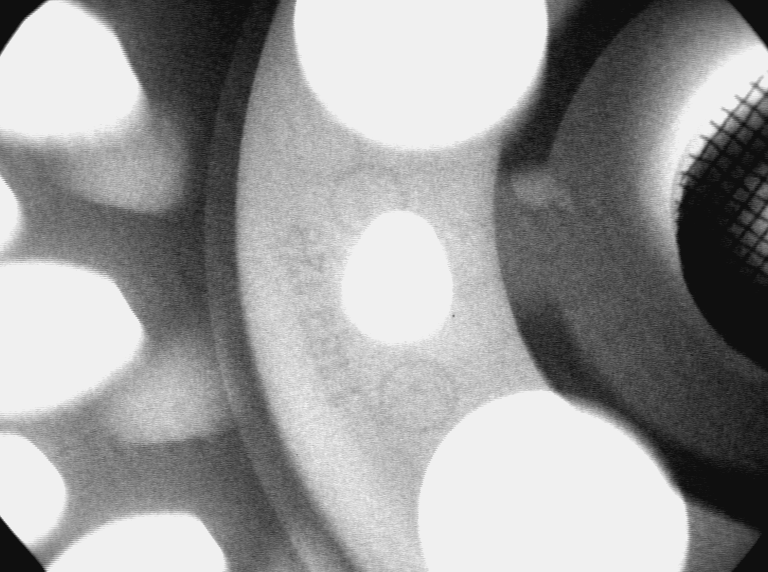defect: (513, 160, 583, 217)
